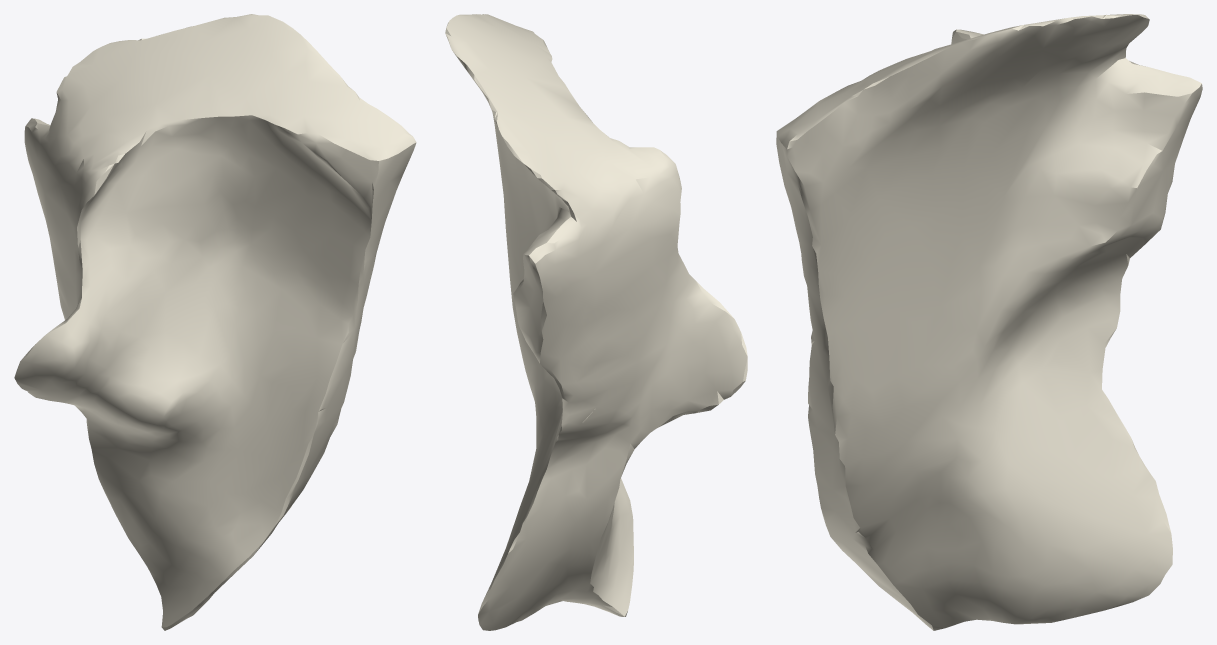
File: fma21472_mm1627.glb
3 renders of one model, left to right at view 1: azimuth 30°, elevation 25°; view 2: azimuth 150°, elevation 25°; view 3: azimuth 270°, elevation 25°, orthographic. The views are drawn at different scales.
Visible parts, largest first — view 1: FMA21472_MM1627; view 2: FMA21472_MM1627; view 3: FMA21472_MM1627.
Boxes of the visible parts, left/top/right/bottom form: FMA21472_MM1627: left=14, top=14, right=416, bottom=630; FMA21472_MM1627: left=445, top=14, right=747, bottom=630; FMA21472_MM1627: left=776, top=14, right=1202, bottom=630.
Bounding box in the file's own units: 0.0278 × 0.0454 × 0.0261.
